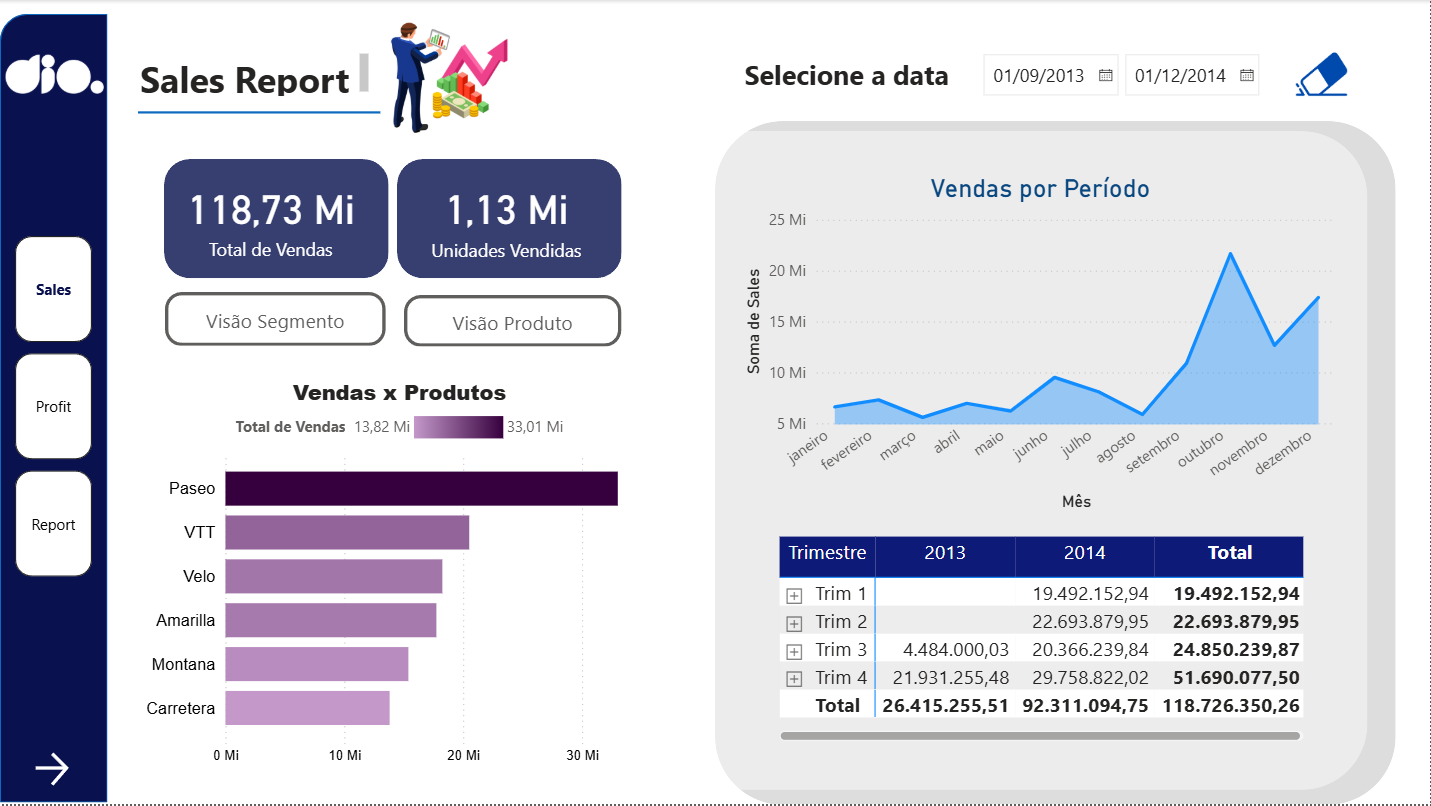

The dashboard page shown, as its layout file describes it:
{"tool":"powerbi","page":{"name":"Sales","canvas":[1280,720],"ordinal":0},"visuals":[{"type":"group","id":"g1","title":"Layout","box":[0,-0.5,511.4,720],"z":0},{"type":"shape","box":[0,13.4,96.4,706.2],"z":0,"group":"g1"},{"type":"slicer","fields":{"Values":["financials.Date"]},"box":[867.2,38.7,272.2,55],"z":0,"group":"g3"},{"type":"shape","box":[123.8,84.5,217.2,33],"z":0,"group":"g4"},{"type":"shape","box":[147.2,142.2,201.4,106.8],"z":0,"group":"g2"},{"type":"areaChart","title":"Vendas por Período","fields":{"Category":["financials.Date.Variation.Hierarquia de datas.Ano","financials.Date.Variation.Hierarquia de datas.Mês"],"Y":["Sum(financials. Sales)"]},"box":[661.6,156.1,539.7,306.2],"z":0,"group":"g6"},{"type":"image","title":"logo_dio","box":[0,35.7,98.2,63.2],"z":1000,"group":"g1"},{"type":"textbox","box":[120.4,43.1,215.2,48.5],"z":1000,"group":"g4"},{"type":"textbox","box":[661.6,44.7,199.6,45.6],"z":1000,"group":"g3"},{"type":"shape","box":[355.9,142.2,201.4,106.8],"z":1000,"group":"g2"},{"type":"clusteredBarChart","title":"Vendas x Produtos","fields":{"Y":["Sum(financials. Sales)"],"Category":["financials.Product"]},"box":[121,337.6,473.5,355.6],"z":1000,"group":"g5"},{"type":"actionButton","title":"Botão - Next","box":[25.9,669,48.8,39.6],"z":1000},{"type":"image","box":[322.6,-0.5,188.8,141.2],"z":2000,"group":"g1"},{"type":"actionButton","box":[1153.4,43.3,59.9,51.3],"z":2000,"group":"g3"},{"type":"group","id":"g2","title":"Cartões","box":[147.2,141.2,410.3,107],"z":2000},{"type":"card","fields":{"Values":["Sum(financials. Sales)"]},"box":[161.1,141.2,162.6,106.9],"z":2000,"group":"g2"},{"type":"actionButton","title":"B-Segmento","box":[147.8,261.6,197.5,48.4],"z":2000,"group":"g5"},{"type":"group","id":"g3","title":"Filtro por data","box":[661.6,38.7,551.5,55],"z":3000},{"type":"image","title":"clean","box":[1153.4,39,59.9,55.6],"z":3000,"group":"g3"},{"type":"card","fields":{"Values":["Sum(financials.Units Sold)"]},"box":[375.8,145.4,156.5,98.6],"z":3000,"group":"g2"},{"type":"actionButton","title":"B-Produto","box":[362.2,264.3,194.6,46.3],"z":3000,"group":"g5"},{"type":"shape","box":[640.7,108.5,609.5,612.5],"z":4000},{"type":"group","id":"g4","title":"Title report","box":[120.4,43.1,221.5,74.3],"z":5000},{"type":"group","id":"g5","title":"Grupo 1","box":[120.4,261.6,479.3,445.3],"z":6000},{"type":"shape","box":[584.3,117.4,640.7,590.2],"z":7000},{"type":"group","id":"g6","title":"Perspectiva temporal das vendas","box":[661.6,156.1,539.7,306.2],"z":8000},{"type":"pivotTable","fields":{"Values":["Sum(financials. Sales)"],"Columns":["financials.Date.Variation.Hierarquia de datas.Ano"],"Rows":["financials.Date.Variation.Hierarquia de datas.Trimestre","financials.Date.Variation.Hierarquia de datas.Mês"]},"box":[692.8,475.7,478.7,193.3],"z":9000},{"type":"pageNavigator","box":[13.4,211.1,69.9,306.2],"z":10000}]}

Visuals, with their boxes in screenshot pixels (x1, y1, x2, y2), scaled from the page's 1280x720 canvas onto the 1431x806 screenshot:
"Layout" group: x1=0, y1=0, x2=572, y2=805
shape: x1=0, y1=15, x2=108, y2=805
slicer - financials.Date: x1=970, y1=43, x2=1274, y2=105
shape: x1=138, y1=95, x2=381, y2=132
shape: x1=165, y1=159, x2=390, y2=279
"Vendas por Período" areaChart: x1=740, y1=175, x2=1343, y2=518
"logo_dio" image: x1=0, y1=40, x2=110, y2=111
textbox: x1=135, y1=48, x2=375, y2=103
textbox: x1=740, y1=50, x2=963, y2=101
shape: x1=398, y1=159, x2=623, y2=279
"Vendas x Produtos" clusteredBarChart: x1=135, y1=378, x2=665, y2=776
"Botão - Next" actionButton: x1=29, y1=749, x2=84, y2=793
image: x1=361, y1=0, x2=572, y2=158
actionButton: x1=1289, y1=48, x2=1356, y2=106
"Cartões" group: x1=165, y1=158, x2=623, y2=278
card - Sum(financials. Sales): x1=180, y1=158, x2=362, y2=278
"B-Segmento" actionButton: x1=165, y1=293, x2=386, y2=347
"Filtro por data" group: x1=740, y1=43, x2=1356, y2=105
"clean" image: x1=1289, y1=44, x2=1356, y2=106
card - Sum(financials.Units Sold): x1=420, y1=163, x2=595, y2=273
"B-Produto" actionButton: x1=405, y1=296, x2=622, y2=348
shape: x1=716, y1=121, x2=1398, y2=805
"Title report" group: x1=135, y1=48, x2=382, y2=131
"Grupo 1" group: x1=135, y1=293, x2=670, y2=791
shape: x1=653, y1=131, x2=1370, y2=792
"Perspectiva temporal das vendas" group: x1=740, y1=175, x2=1343, y2=518
pivotTable - Sum(financials. Sales) x financials.Date.Variation.Hierarquia de datas.Ano: x1=775, y1=533, x2=1310, y2=749
pageNavigator: x1=15, y1=236, x2=93, y2=579
